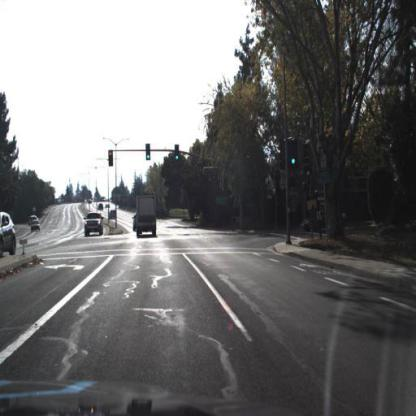car: (298, 207, 349, 232), (302, 208, 345, 232), (1, 213, 18, 260), (85, 212, 104, 239), (130, 212, 138, 235), (30, 221, 41, 234), (134, 212, 139, 234), (109, 209, 117, 221), (30, 217, 38, 226), (98, 203, 105, 213)
trafficLight: (107, 148, 116, 170)
trafficLight-Green: (290, 140, 299, 168), (145, 144, 152, 162), (175, 143, 180, 164)
trafficLight-RedLeft: (108, 149, 113, 167)
truck: (135, 193, 160, 240)
